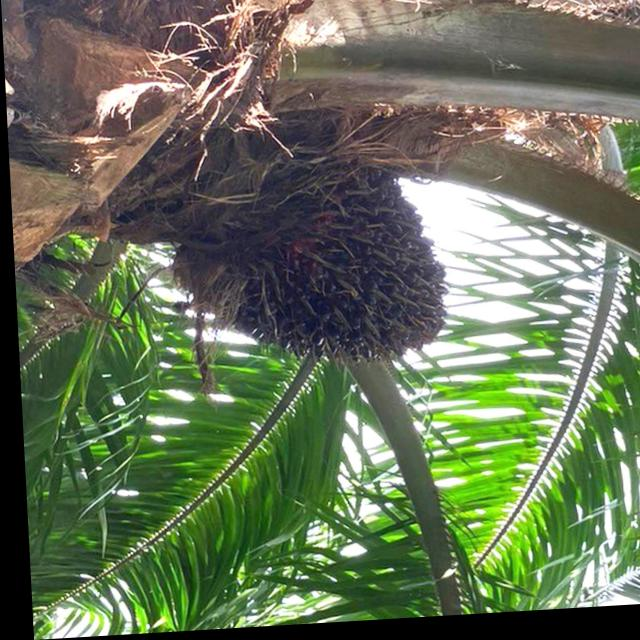almost: (166, 159, 455, 379)
